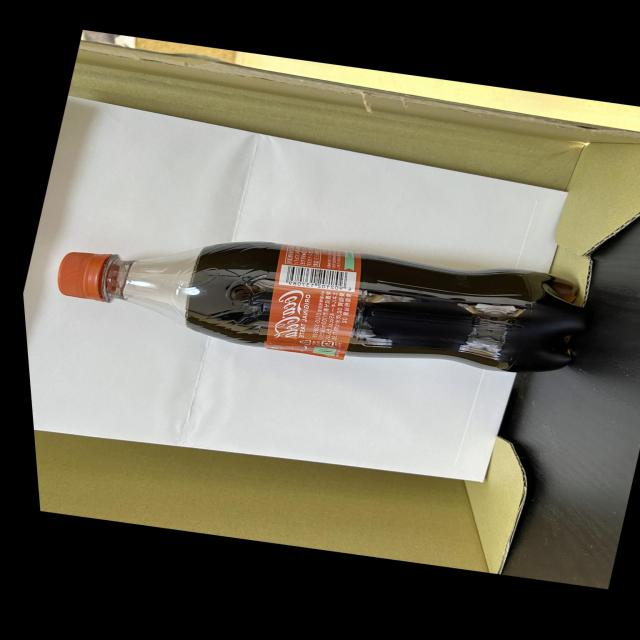high: (59, 242, 586, 372)
